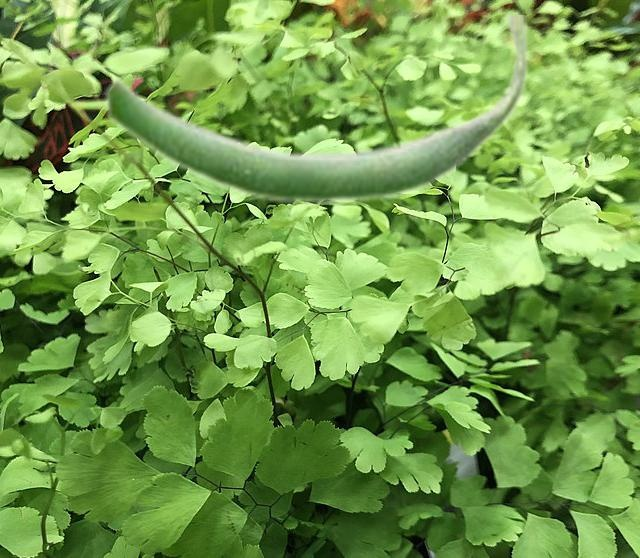french_bean: (103, 15, 529, 206)
